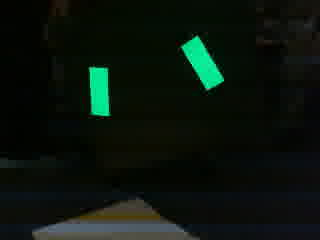target: (86, 33, 225, 118)
